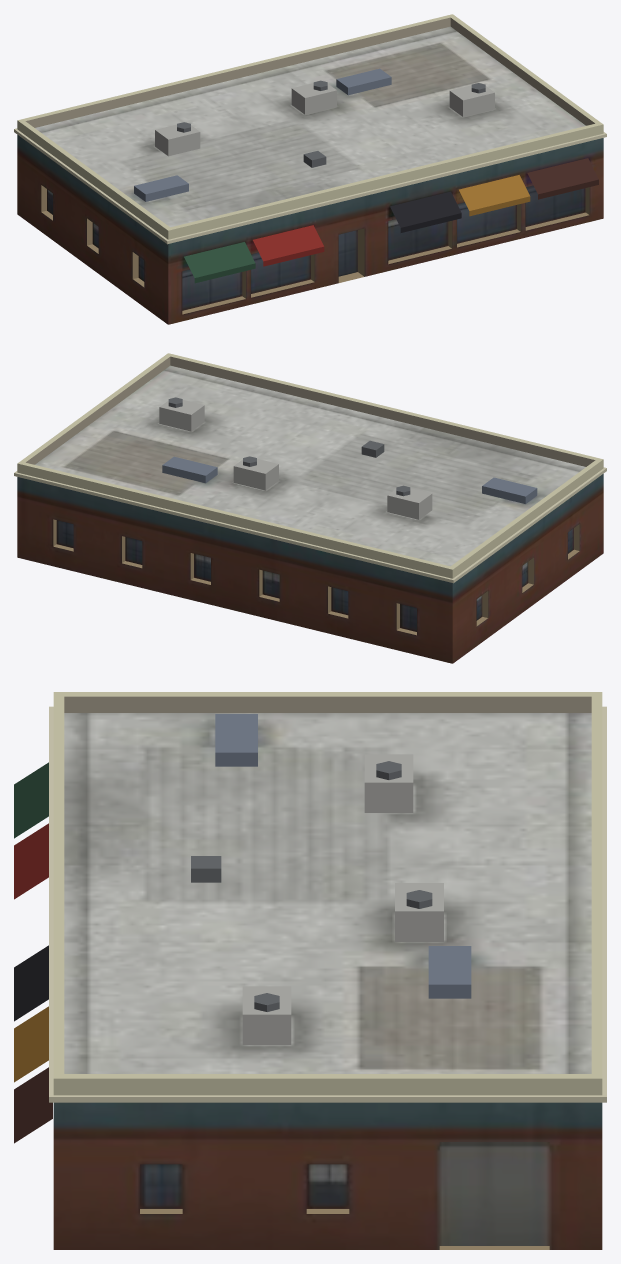
Rendered from seattle_low_a.glb.
The picture shows the model from 3 angles, top to bottom: view 1: azimuth 30°, elevation 25°; view 2: azimuth 150°, elevation 25°; view 3: azimuth 270°, elevation 25°; orthographic projection. The views are drawn at different scales.
Visible parts, largest first — view 1: seattle_low_a; view 2: seattle_low_a; view 3: seattle_low_a.
Part boxes in pixels (x1,y1,x2,y2): seattle_low_a: (14, 14, 606, 324); seattle_low_a: (14, 353, 606, 663); seattle_low_a: (14, 692, 606, 1249).
Size of the model in its own units: 30.3 by 6.95 by 19.45.
Materials: 1 (1 with a texture image).
